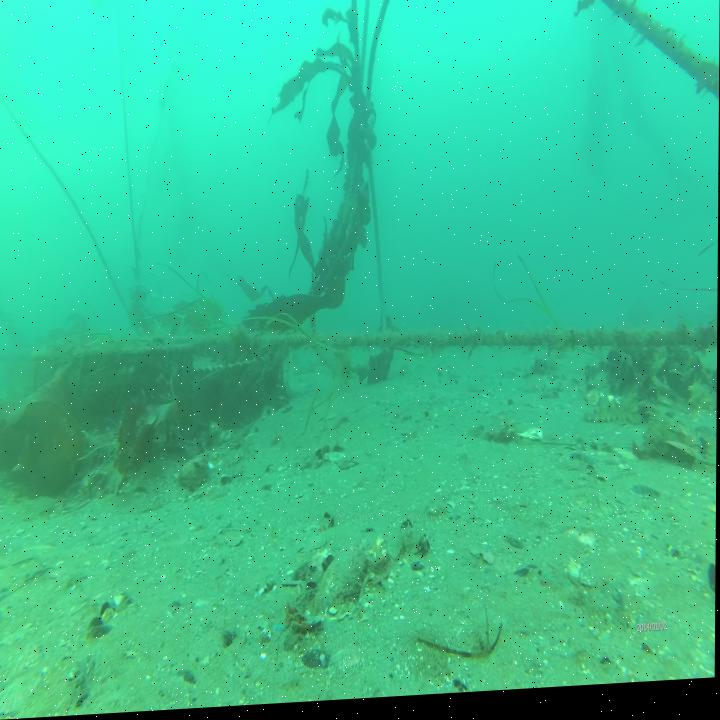holothurian: (583, 405, 634, 435)
